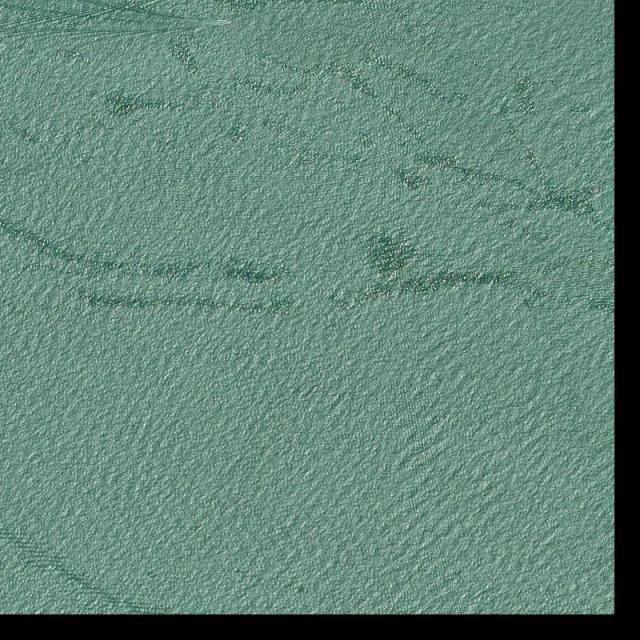ship: (226, 21, 233, 24)
